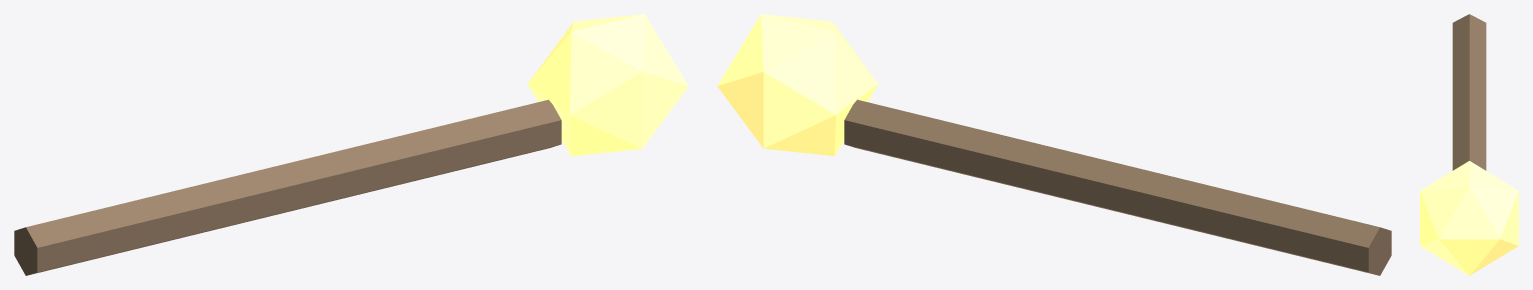
The model's file is held_weapon_torch.glb.
3 renders of one model, left to right at view 1: azimuth 30°, elevation 25°; view 2: azimuth 150°, elevation 25°; view 3: azimuth 270°, elevation 25°, orthographic. The views are drawn at different scales.
Visible parts, largest first — view 1: held_weapon_torch; view 2: held_weapon_torch; view 3: held_weapon_torch.
Part boxes in pixels (bbox=[...]): held_weapon_torch: bbox=[14, 14, 688, 275]; held_weapon_torch: bbox=[717, 14, 1391, 275]; held_weapon_torch: bbox=[1420, 14, 1518, 275].
Size of the model in its own units: 0.551 by 0.1021 by 0.1021.
